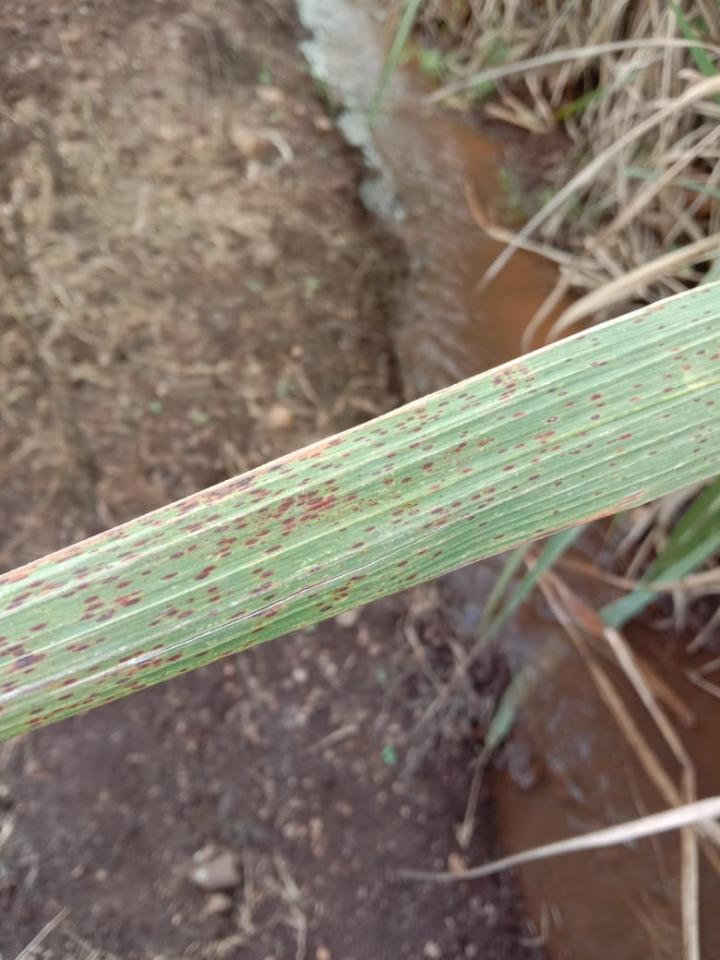Rust: (0, 280, 719, 741)
